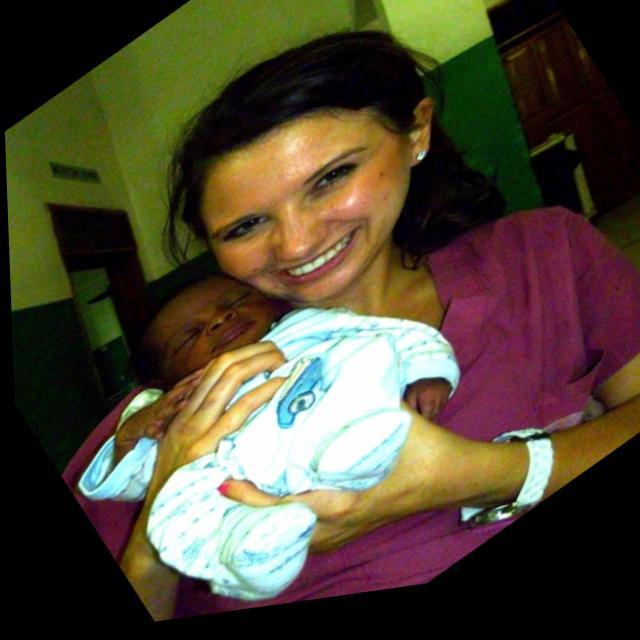Nonhelmet: (156, 23, 452, 311)
